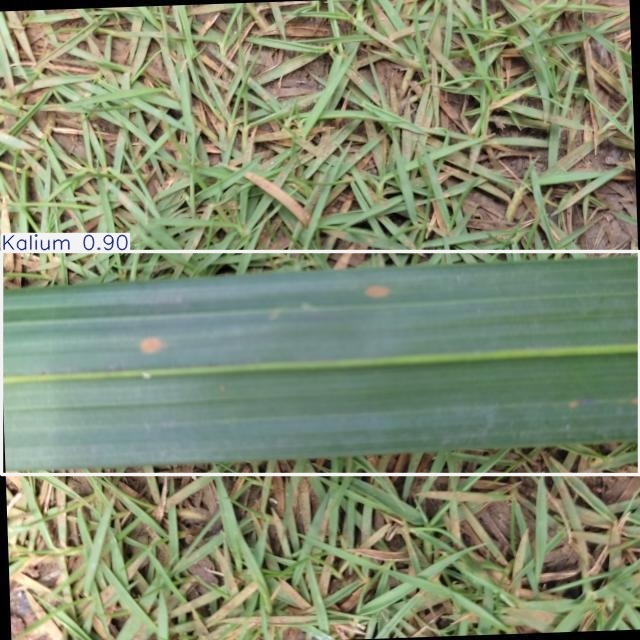Kalium: (2, 251, 640, 475)
